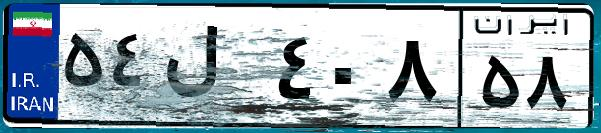0: (330, 28, 385, 110)
4: (270, 28, 330, 110), (110, 28, 158, 98)
5: (57, 26, 110, 100), (475, 38, 525, 113)
8: (385, 28, 445, 110), (525, 38, 570, 115)
ل: (158, 20, 270, 120)
